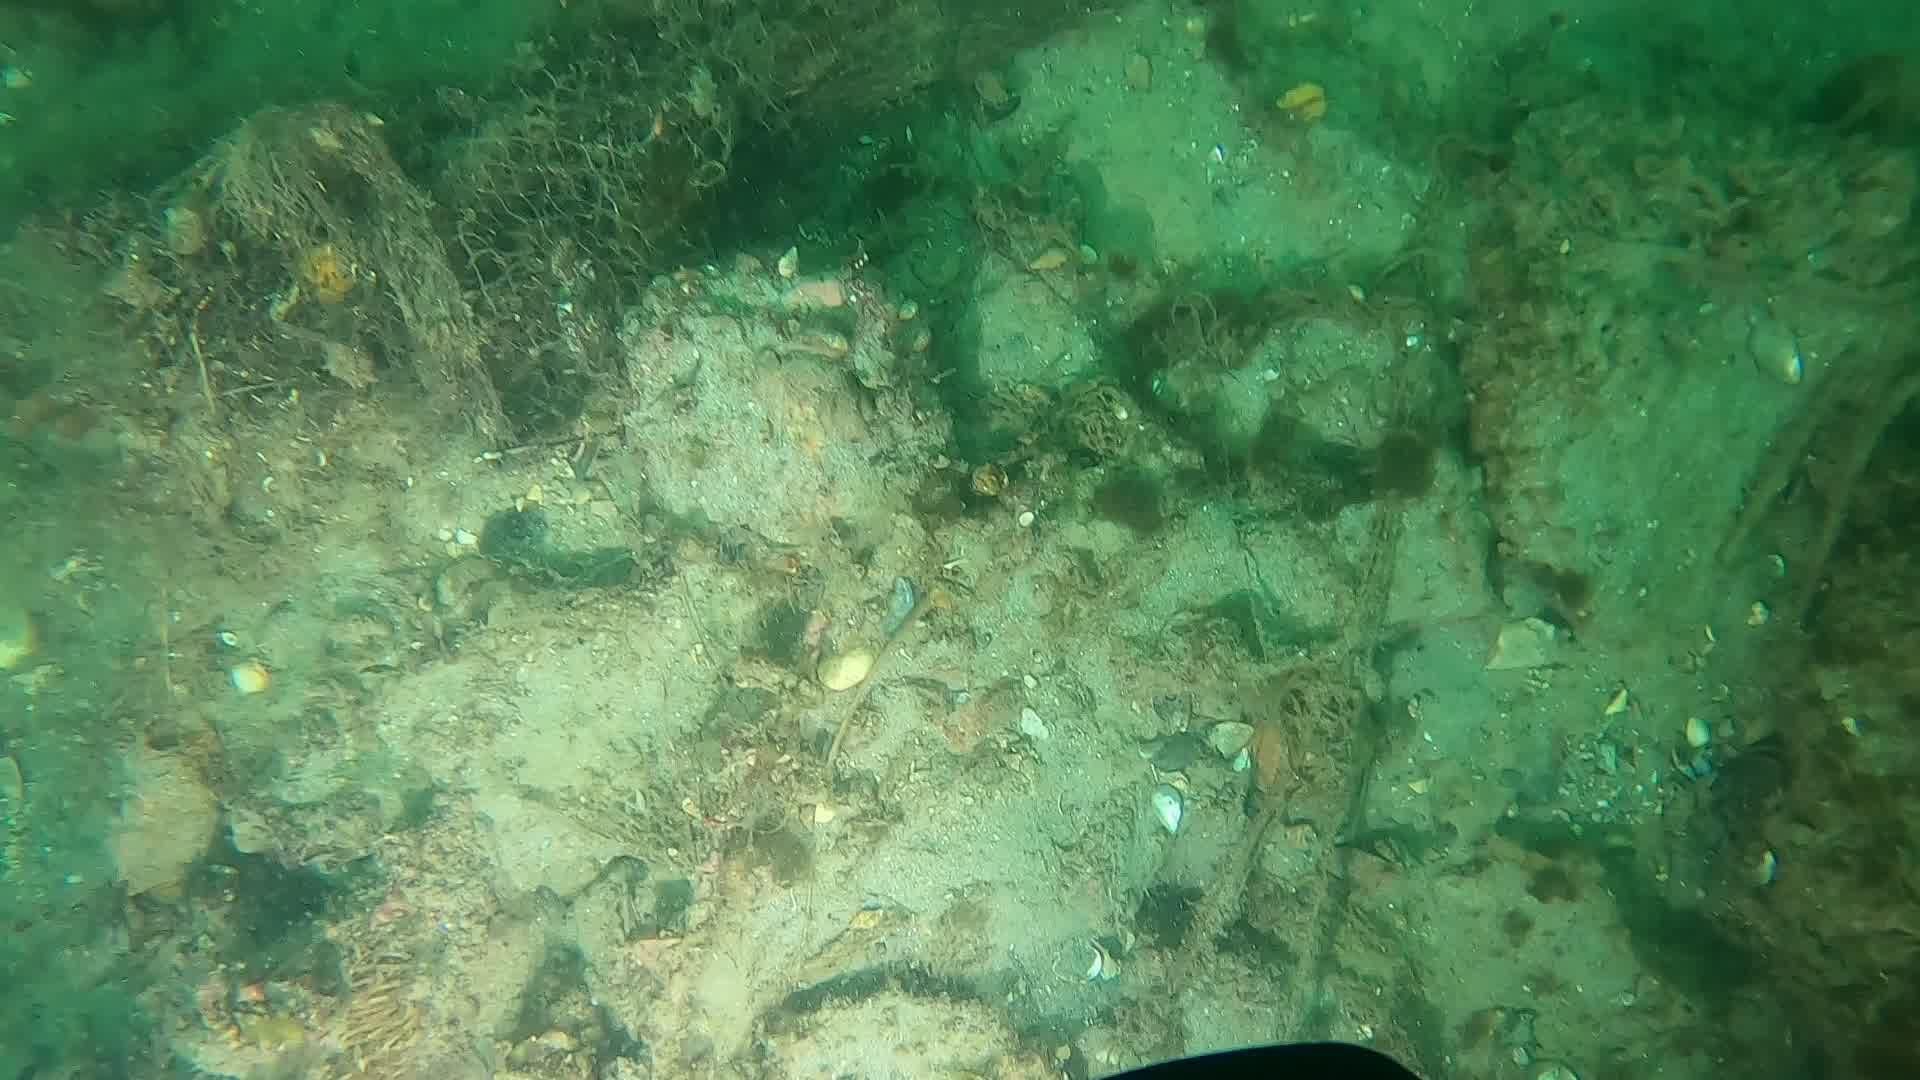fish net: (440, 0, 790, 334)
